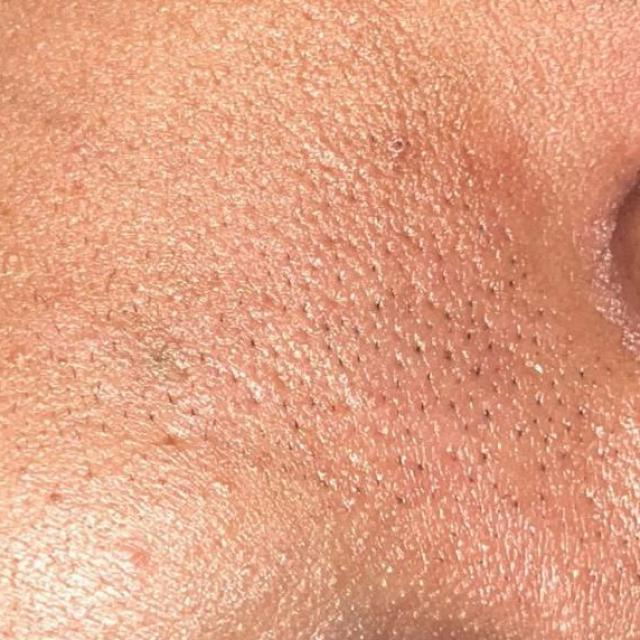blackhead: (151, 192, 628, 527)
